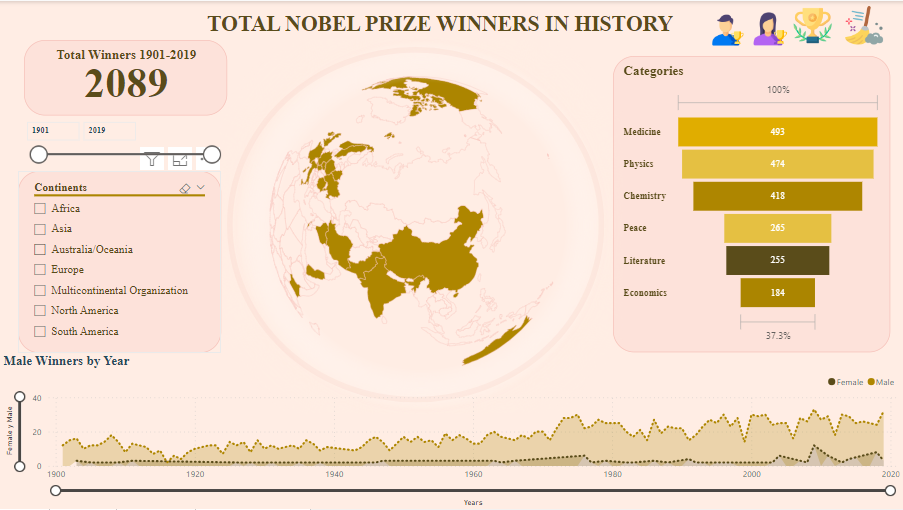

Layout of this report page (visuals, bound fields, positions):
{"tool":"powerbi","page":{"name":"Total Winners","canvas":[1280,720],"ordinal":3},"visuals":[{"type":"shapeMap","fields":{"Category":["nobel_prize_awarded_1901_2019.Countries"],"Value":["AMeasures.Woman"]},"box":[357.3,79.3,450,464.8],"z":0},{"type":"image","box":[252.6,47,690.5,542.7],"z":1000},{"type":"shape","box":[321.1,65.8,534.7,503.8],"z":2000},{"type":"slicer","fields":{"Values":["nobel_prize_awarded_1901_2019.Continents"]},"box":[25,240.4,288,258.2],"z":3000},{"type":"card","title":"Total Winners 1901-2019","fields":{"Values":["AMeasures.Winners"]},"box":[33.3,54.7,288,107.1],"z":4000},{"type":"slicer","fields":{"Values":["nobel_prize_awarded_1901_2019.Year"]},"box":[26.2,161.9,295.1,78.5],"z":5000},{"type":"stackedAreaChart","title":"Male Winners by Year","fields":{"Category":["nobel_prize_awarded_1901_2019.Year"],"Y":["AMeasures.Woman","AMeasures.Men"]},"box":[0,498.4,1280.3,223],"z":6000},{"type":"funnel","title":"Categories","fields":{"Category":["nobel_prize_awarded_1901_2019.Category"],"Y":["AMeasures.Winners"]},"box":[868.8,78.5,392.7,420.1],"z":7000},{"type":"image","box":[1187.6,1.3,73.9,65.8],"z":8000},{"type":"image","box":[1055.6,0,71.4,78.5],"z":9000},{"type":"image","box":[998.5,2.4,66.6,76.2],"z":10000},{"type":"image","box":[1117.5,2.4,70.2,64.3],"z":11000},{"type":"shape","title":"TOTAL NOBEL PRIZE WINNERS IN HISTORY","box":[299.9,19,698.6,35.7],"z":12000}]}

Visuals, with their boxes in screenshot pixels (x1, y1, x2, y2), scaled from the page's 1280x720 canvas onto the 903x510 screenshot:
shapeMap - nobel_prize_awarded_1901_2019.Countries x AMeasures.Woman: box(252, 56, 570, 385)
image: box(178, 33, 665, 418)
shape: box(227, 47, 604, 403)
slicer - nobel_prize_awarded_1901_2019.Continents: box(18, 170, 221, 353)
"Total Winners 1901-2019" card: box(23, 39, 227, 115)
slicer - nobel_prize_awarded_1901_2019.Year: box(18, 115, 227, 170)
"Male Winners by Year" stackedAreaChart: box(0, 353, 902, 509)
"Categories" funnel: box(613, 56, 890, 353)
image: box(838, 1, 890, 48)
image: box(745, 0, 795, 56)
image: box(704, 2, 751, 56)
image: box(788, 2, 838, 47)
"TOTAL NOBEL PRIZE WINNERS IN HISTORY" shape: box(212, 13, 704, 39)
